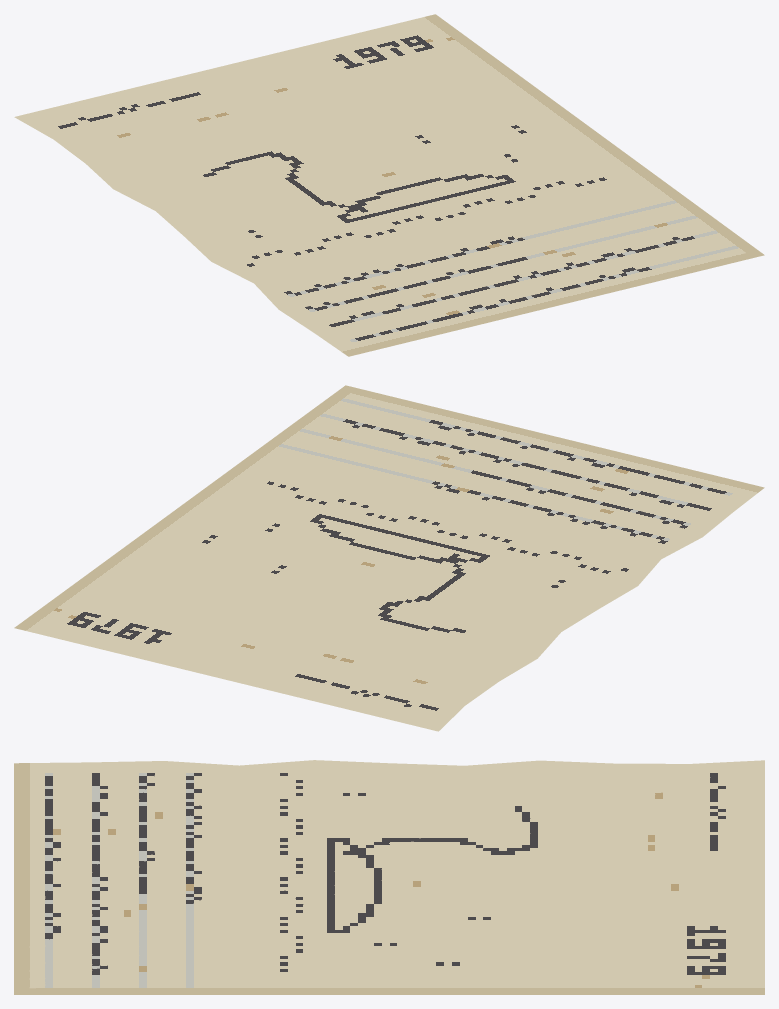
Rendered from m_page_swan.glb.
3 views of the same model, one above another, from view 1: azimuth 30°, elevation 25°; view 2: azimuth 150°, elevation 25°; view 3: azimuth 270°, elevation 25° (orthographic). The views are drawn at different scales.
Parts seen in each view (by area): view 1: Page_swan; view 2: Page_swan; view 3: Page_swan.
Part boxes in pixels (x1,y1,x2,y2): Page_swan: [14, 14, 764, 356]; Page_swan: [14, 385, 764, 731]; Page_swan: [14, 760, 764, 994].
Bounding box in the file's own units: 0.148 × 0 × 0.2.
1 material, 1 textured.
